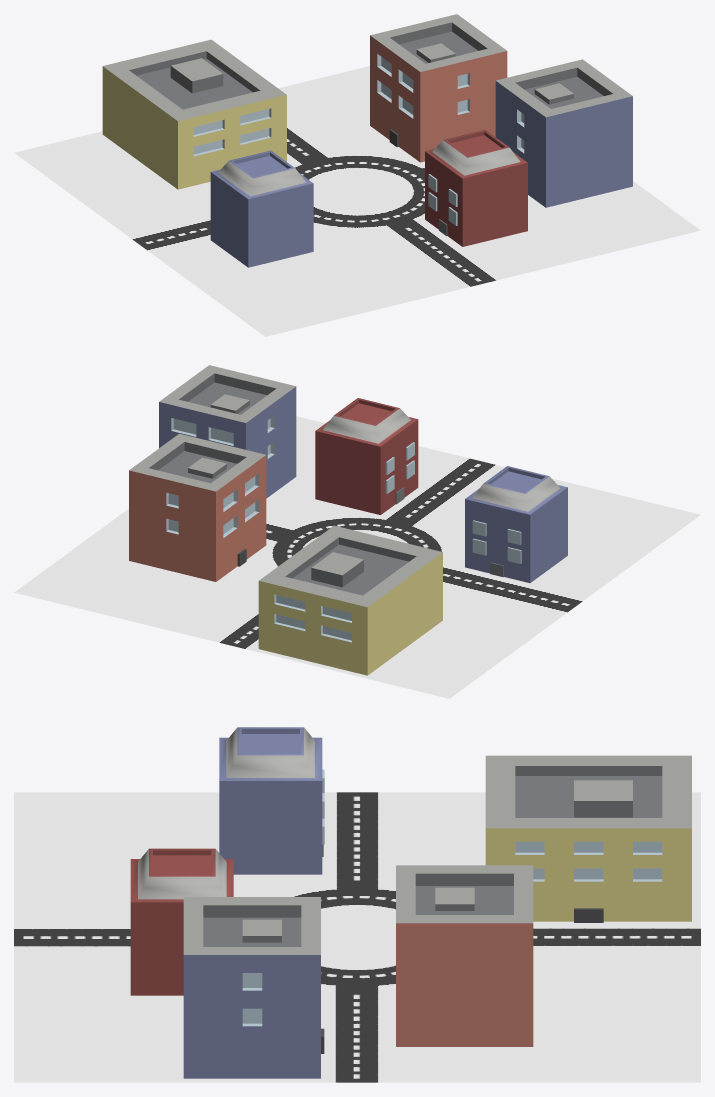
Rendered from level_1_buildings_new.fbx.
The picture shows the model from 3 angles, top to bottom: view 1: azimuth 30°, elevation 25°; view 2: azimuth 150°, elevation 25°; view 3: azimuth 270°, elevation 25°; orthographic projection. The views are drawn at different scales.
Parts seen in each view (by area): view 1: level_1, Plane; view 2: level_1, Plane; view 3: Plane, level_1.
Boxes of the visible parts, bbox=[...] form: level_1: bbox=[102, 14, 632, 267]; Plane: bbox=[14, 66, 700, 336]; level_1: bbox=[129, 365, 567, 675]; Plane: bbox=[14, 416, 700, 698]; Plane: bbox=[14, 792, 700, 1082]; level_1: bbox=[130, 727, 691, 1078].
Bounding box in the file's own units: 20 × 4 × 20.
Materials: 9 (1 with a texture image).
